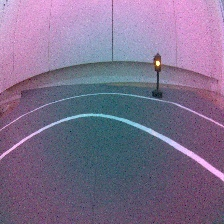amber: (149, 51, 166, 100)
